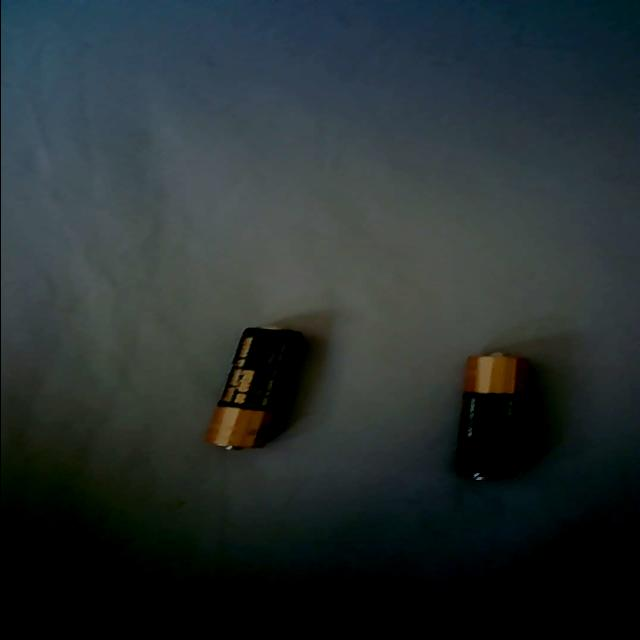AA: (205, 326, 303, 451), (456, 352, 530, 480)
